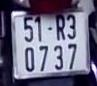0: (23, 46, 35, 72)
1: (34, 14, 44, 43)
3: (52, 42, 64, 72), (66, 12, 78, 39)
5: (22, 15, 34, 43)
7: (38, 42, 49, 72), (67, 41, 78, 70)
R: (53, 13, 66, 41)
